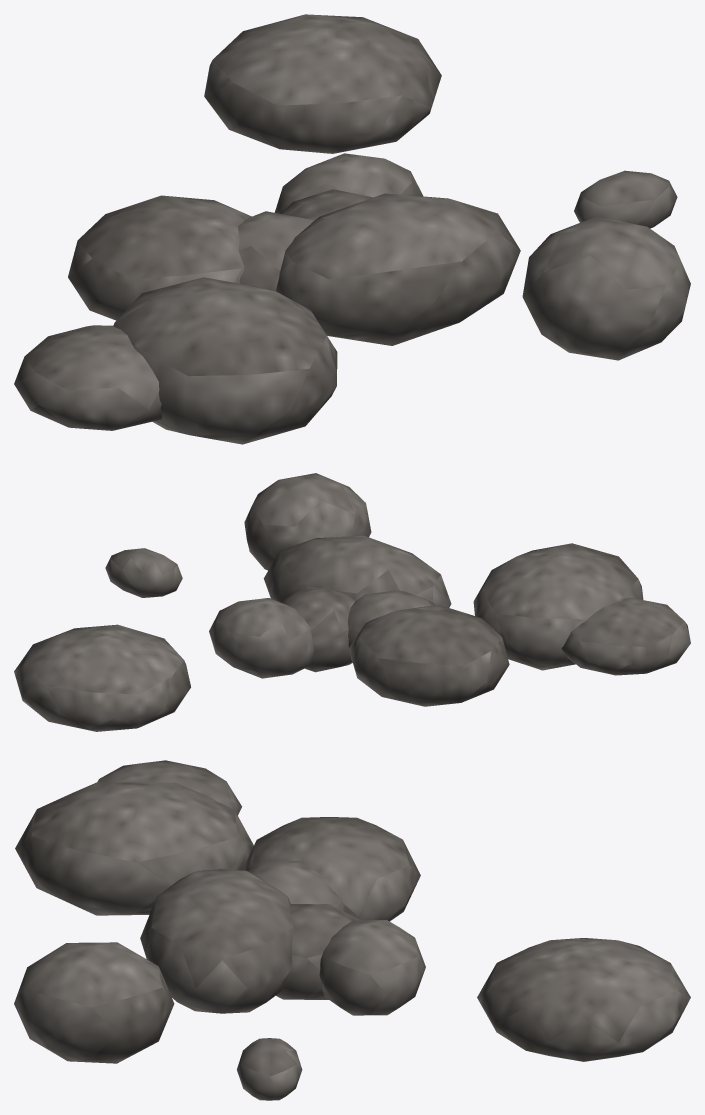
Rendered from pebble_cluster_0.glb.
3 views of the same model, one above another, from view 1: azimuth 30°, elevation 25°; view 2: azimuth 150°, elevation 25°; view 3: azimuth 270°, elevation 25° (orthographic). The views are drawn at different scales.
Parts seen in each view (by area): view 1: pebble_cluster_0; view 2: pebble_cluster_0; view 3: pebble_cluster_0.
Boxes of the visible parts, <box> form: pebble_cluster_0: <box>14,14,690,444</box>; pebble_cluster_0: <box>14,473,690,731</box>; pebble_cluster_0: <box>14,760,690,1100</box>.
Bounding box in the file's own units: 1.53 × 0.2774 × 1.44.
Materials: 1 (1 with a texture image).
